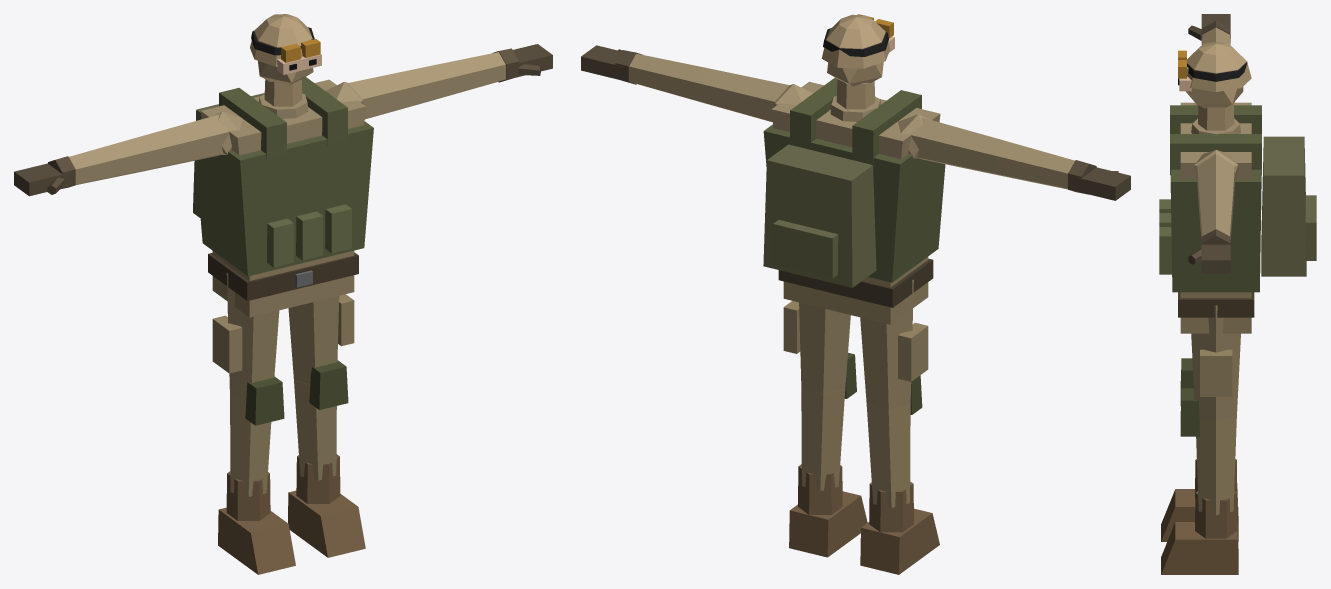
The model's file is Terrorist_Desert.glb.
The picture shows the model from 3 angles, left to right: view 1: azimuth 30°, elevation 25°; view 2: azimuth 150°, elevation 25°; view 3: azimuth 270°, elevation 25°; orthographic projection. The views are drawn at different scales.
Visible parts, largest first — view 1: Terrorist_Desert; view 2: Terrorist_Desert; view 3: Terrorist_Desert.
Part boxes in pixels (x1,y1,x2,y2): Terrorist_Desert: (14,14,552,574); Terrorist_Desert: (581,14,1130,574); Terrorist_Desert: (1159,14,1316,574).
Bounding box in the file's own units: 1.8 × 1.72 × 0.485.
